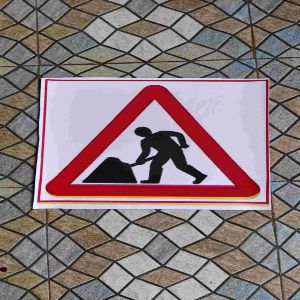men at work: (38, 79, 271, 209)
